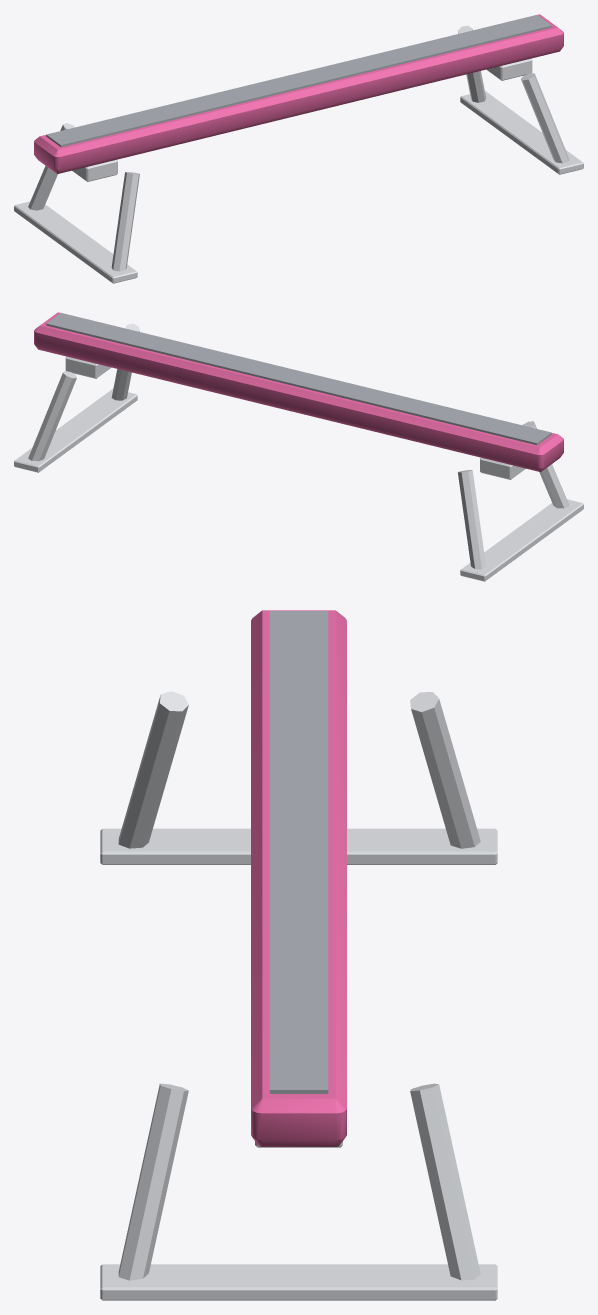
The model's file is trampoline-park-and-soft-play-balance-beam-over-pit-293f4df7__34617.glb.
3 renders of one model, top to bottom at view 1: azimuth 30°, elevation 25°; view 2: azimuth 150°, elevation 25°; view 3: azimuth 270°, elevation 25°, orthographic. The views are drawn at different scales.
Visible parts, largest first — view 1: balance-beam-over-pit; view 2: balance-beam-over-pit; view 3: balance-beam-over-pit.
Part boxes in pixels (left/top/right/bottom): balance-beam-over-pit: left=14, top=14, right=583, bottom=283; balance-beam-over-pit: left=14, top=312, right=583, bottom=581; balance-beam-over-pit: left=100, top=610, right=497, bottom=1300.
Size of the model in its own units: 3.2 by 0.6769 by 1.08.
